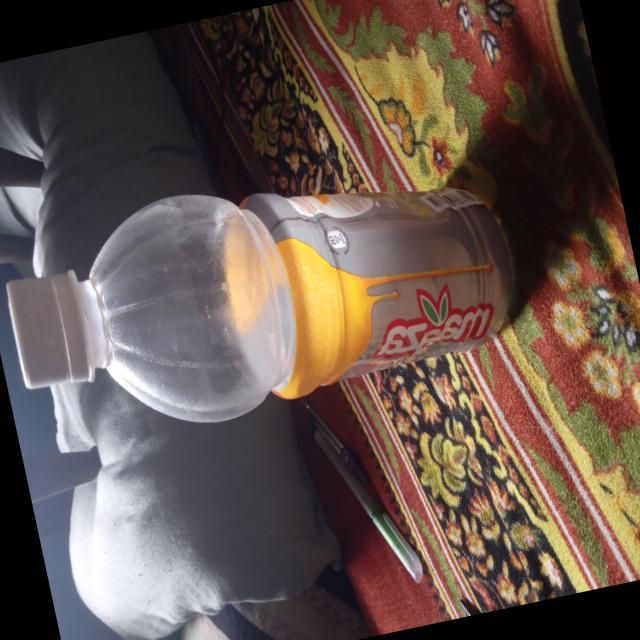good: (0, 134, 545, 466)
